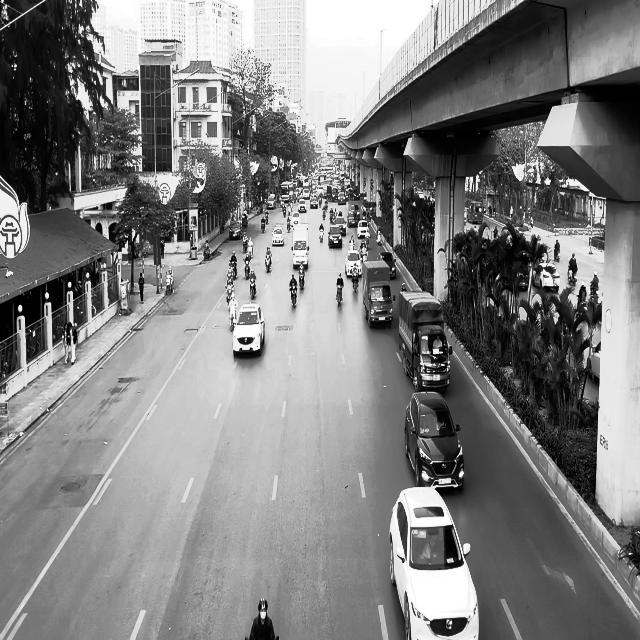bus: (471, 201, 484, 223)
car: (389, 486, 479, 639), (404, 391, 464, 490), (232, 302, 265, 356), (533, 262, 560, 292), (377, 251, 396, 279), (345, 249, 362, 277), (271, 225, 284, 245), (229, 221, 242, 239)
motorbike: (228, 306, 236, 332), (289, 284, 297, 307), (298, 264, 305, 289), (568, 267, 577, 286), (336, 283, 343, 307), (351, 271, 359, 291), (249, 279, 256, 299), (265, 254, 271, 272), (319, 225, 324, 242)
truck: (398, 288, 452, 393)
